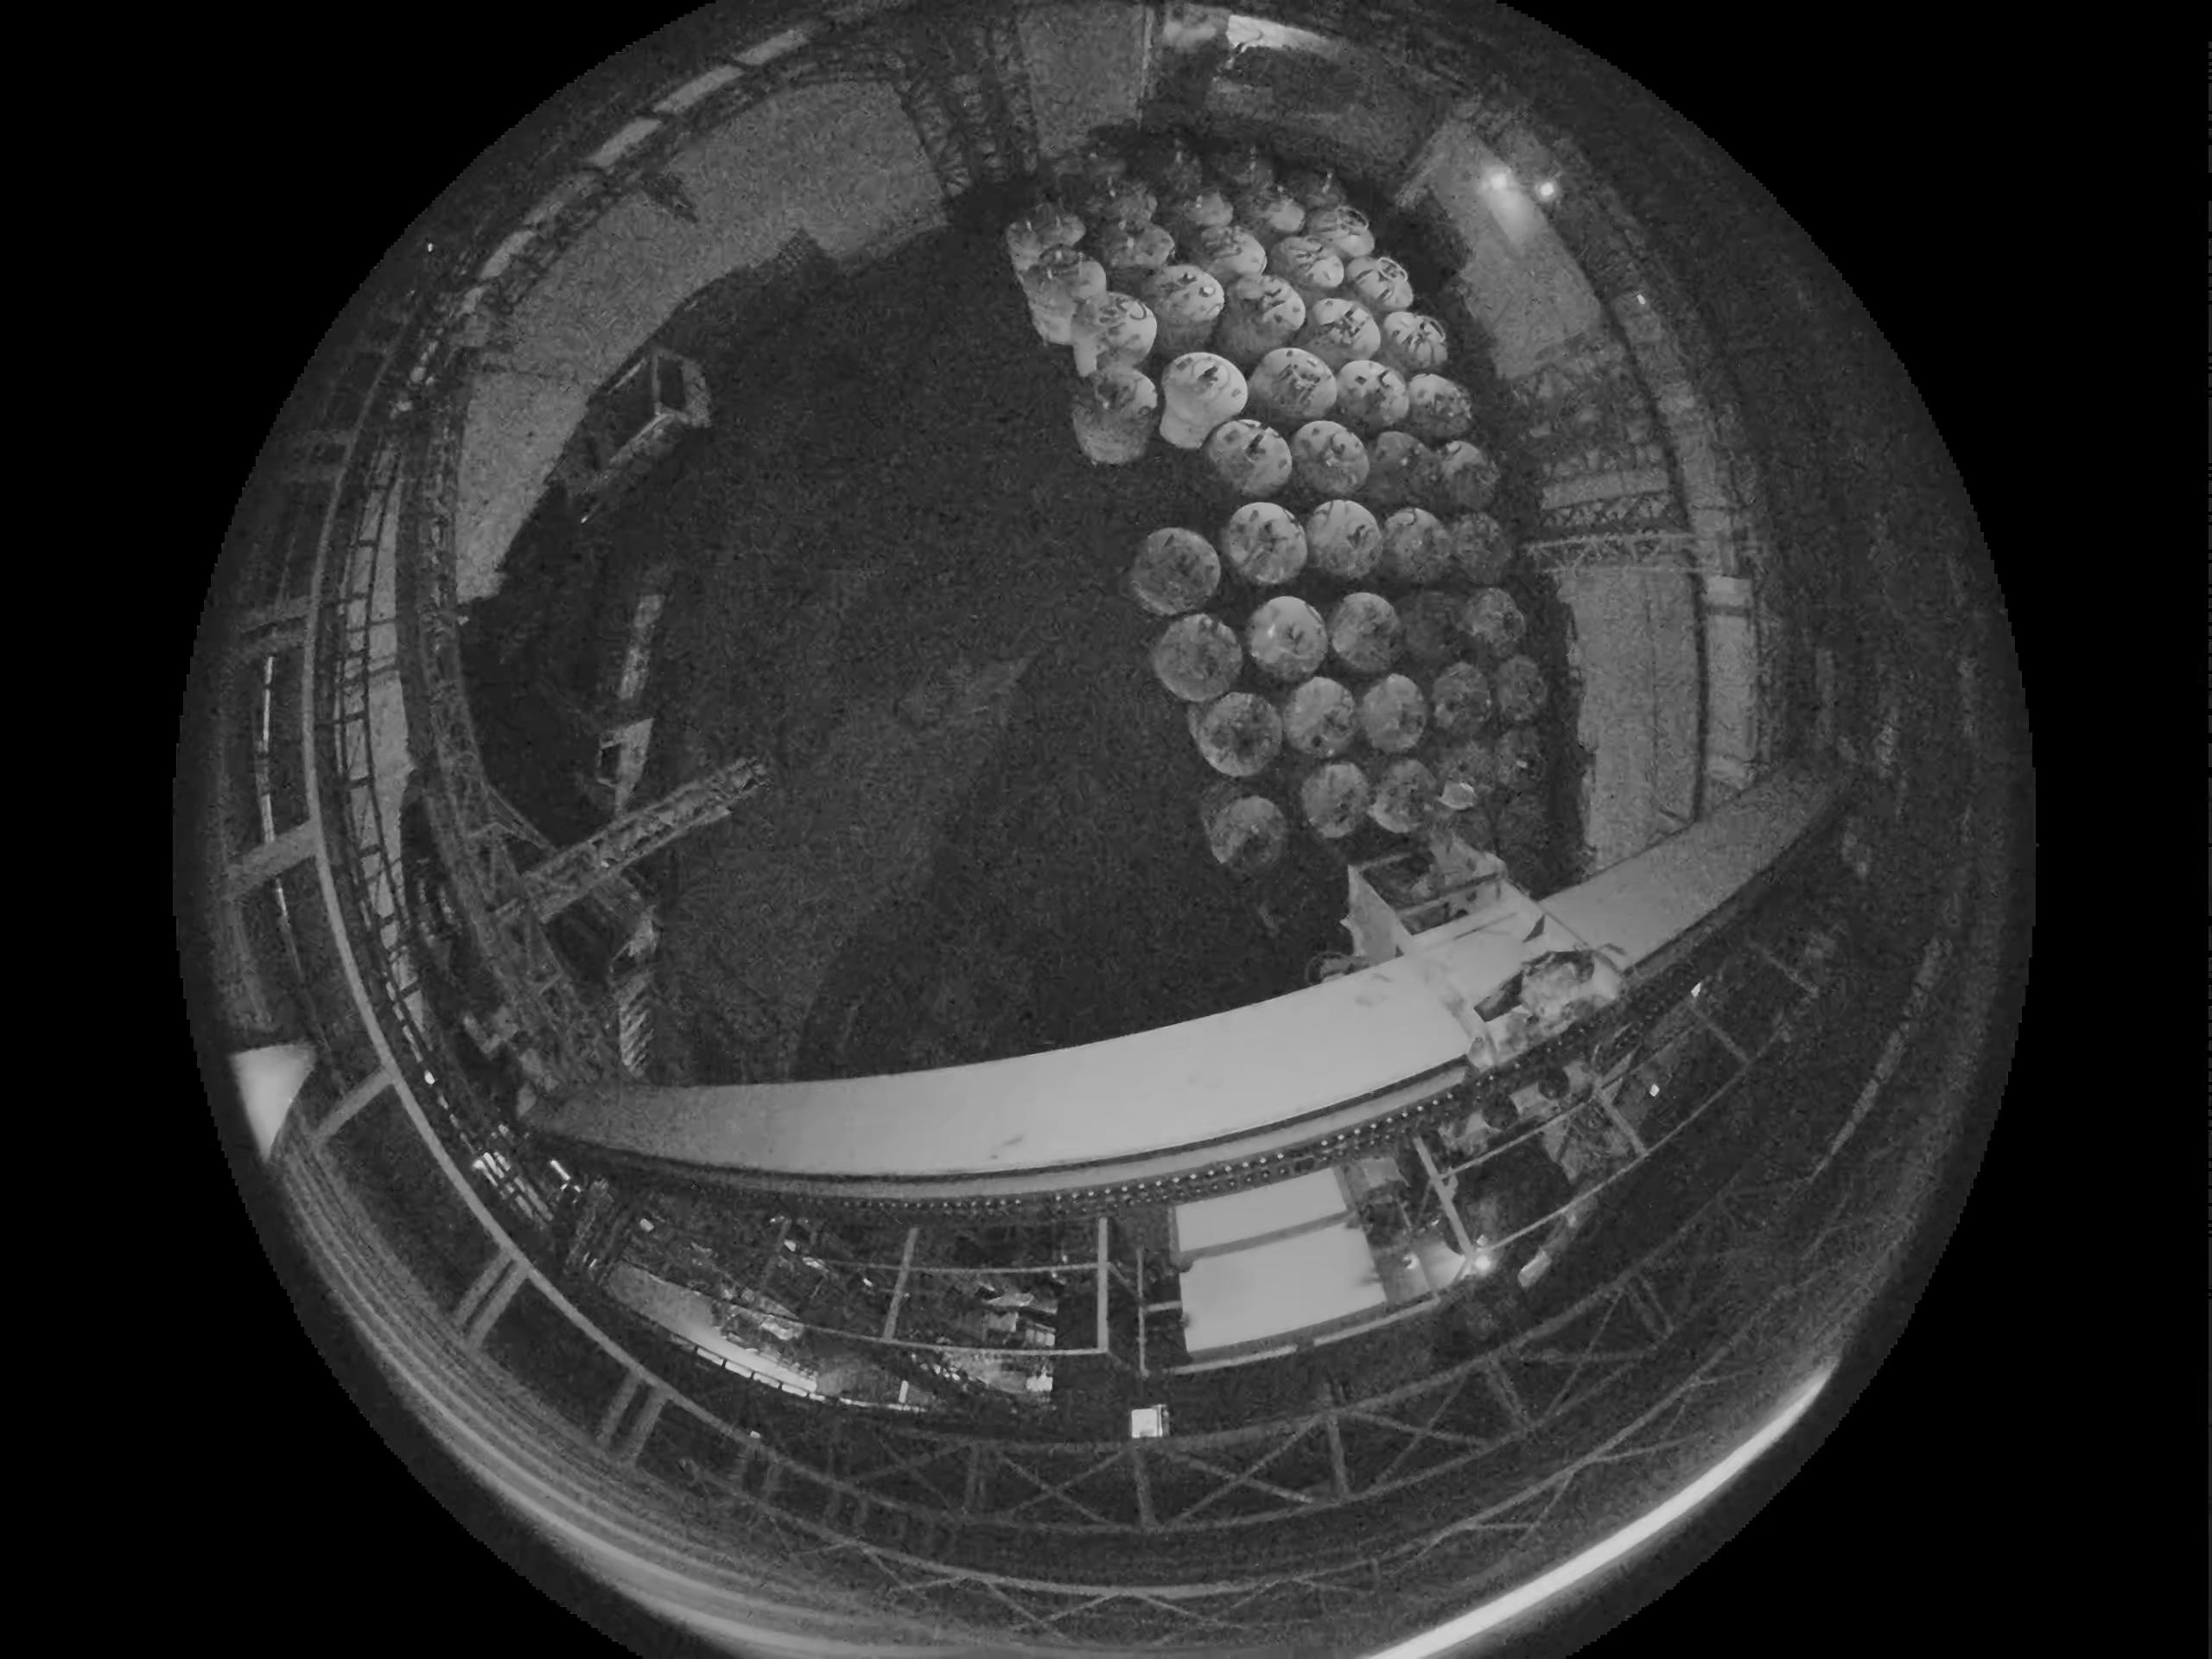cylinder: (1132, 514, 1256, 653), (1073, 362, 1160, 465), (1155, 352, 1245, 450), (1548, 1093, 1629, 1195), (1198, 781, 1289, 871), (1191, 688, 1284, 777), (1216, 279, 1308, 368), (1514, 948, 1609, 1033), (1017, 253, 1103, 347), (1219, 500, 1308, 587), (1247, 347, 1339, 430), (1202, 416, 1292, 500), (1244, 594, 1329, 681), (1301, 497, 1383, 580), (1280, 674, 1360, 760), (1291, 418, 1372, 500), (1327, 591, 1406, 676), (1071, 289, 1153, 369), (1296, 758, 1374, 842), (1378, 505, 1454, 586), (1144, 263, 1224, 340), (1332, 355, 1409, 432), (1355, 671, 1426, 753), (1367, 756, 1440, 835), (1362, 429, 1433, 509), (1393, 589, 1465, 669), (1428, 737, 1501, 809), (1303, 291, 1378, 361), (1413, 823, 1489, 889), (1458, 586, 1527, 657), (1446, 511, 1515, 582), (1379, 308, 1451, 378), (1428, 660, 1493, 737), (1433, 441, 1503, 511), (1406, 371, 1475, 441), (1475, 1004, 1543, 1072), (1494, 795, 1557, 868), (1345, 256, 1416, 319), (1197, 228, 1270, 289), (1103, 221, 1177, 281), (1489, 655, 1550, 725), (1273, 232, 1343, 293), (1012, 202, 1085, 260), (1301, 204, 1372, 261), (1444, 1096, 1507, 1161), (1240, 185, 1306, 239), (1141, 141, 1202, 197), (1172, 185, 1235, 239), (1493, 739, 1548, 798), (1214, 145, 1275, 197), (1094, 179, 1157, 230), (1280, 164, 1338, 213), (1559, 1182, 1608, 1239), (1548, 1054, 1597, 1108), (1562, 394, 1608, 446), (1082, 148, 1130, 192), (1467, 1026, 1503, 1070)
truck: (538, 552, 691, 833), (529, 342, 714, 523), (941, 1303, 1078, 1419)
